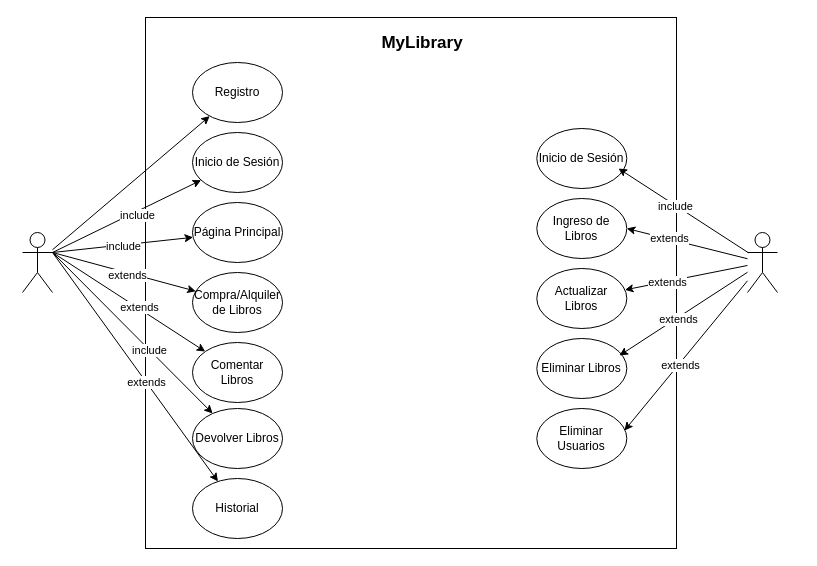
This 817x566 diagram has some shape labels left out. The centre of each missing label's shape, as x and y in pixels:
Administrador: (x=762, y=262)
Usuario: (x=37, y=262)
